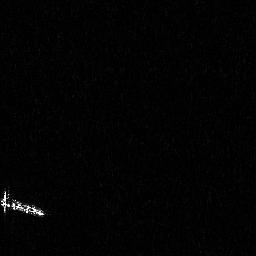ship: (1, 185, 49, 218)
